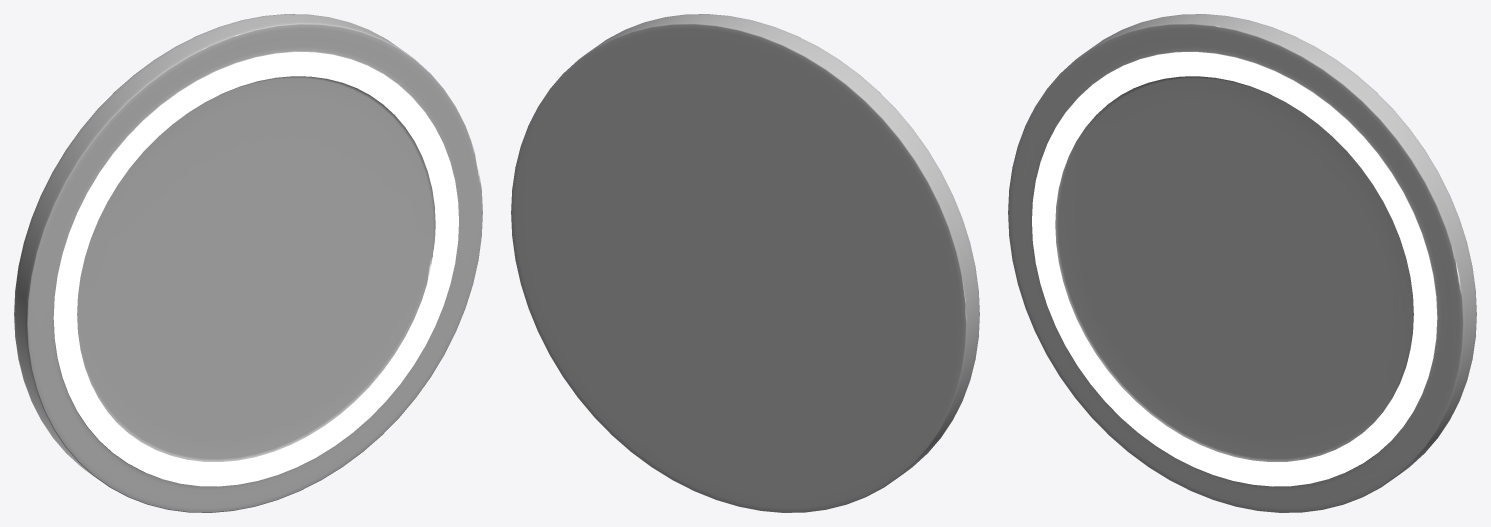
The model's file is Mirror_002.gltf.
3 renders of one model, left to right at view 1: azimuth 30°, elevation 25°; view 2: azimuth 150°, elevation 25°; view 3: azimuth 330°, elevation 25°, orthographic.
Parts seen in each view (by area): view 1: Mirror_002; view 2: Mirror_002; view 3: Mirror_002.
Part boxes in pixels (<box>): Mirror_002: <box>14,14,482,512</box>; Mirror_002: <box>511,14,979,512</box>; Mirror_002: <box>1008,14,1476,512</box>.
Bounding box in the file's own units: 0.999 × 0.999 × 0.0622.
Materials: 1 (1 with a texture image).
